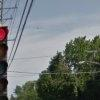Tree: (35, 32, 100, 98)
